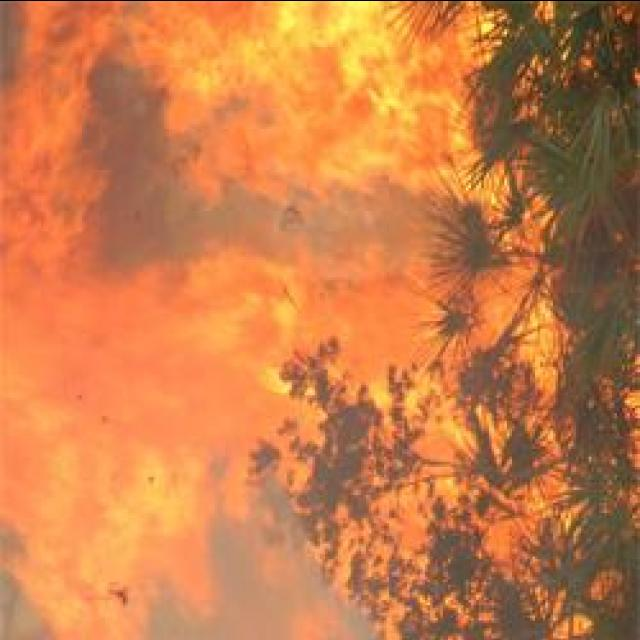fire: (141, 0, 466, 115), (510, 296, 566, 422)
